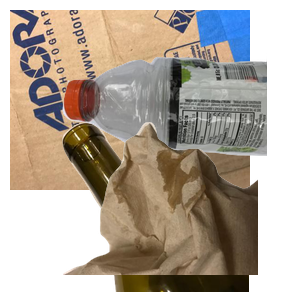cardboard: (10, 10, 250, 190)
glass: (60, 120, 300, 300)
plastic: (60, 53, 300, 201)
trash: (60, 120, 300, 300)
